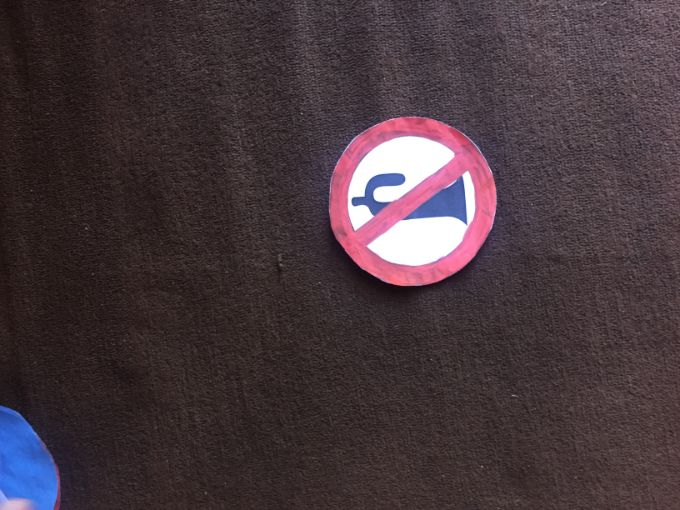no-horn: (329, 117, 499, 286)
